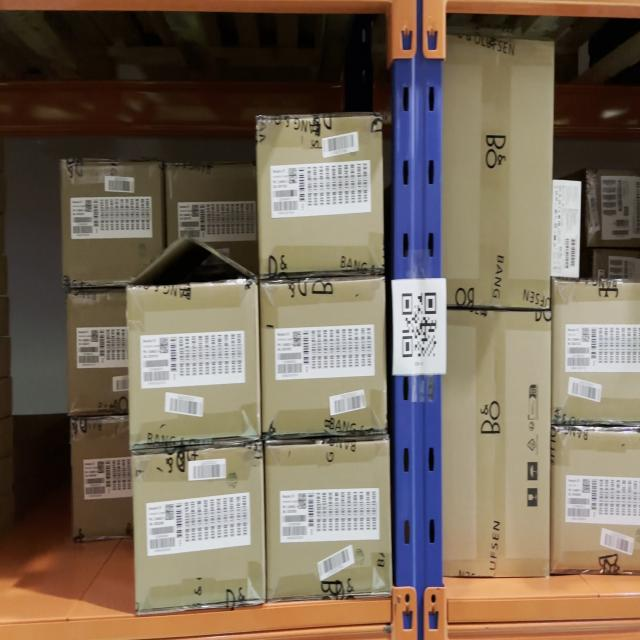box: (447, 39, 553, 308), (446, 311, 552, 578), (129, 289, 260, 442), (259, 114, 381, 278), (136, 450, 264, 606), (262, 282, 388, 434), (266, 442, 390, 592), (553, 182, 579, 277)
